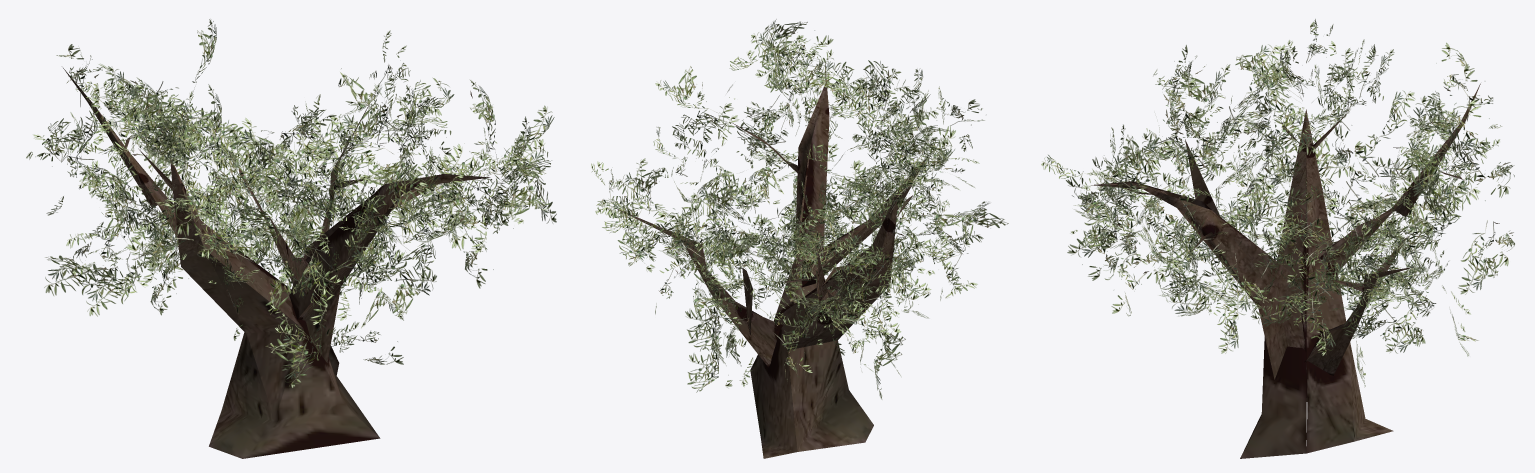
The model's file is tree-olive.glb.
3 views of the same model, side by side, from view 1: azimuth 30°, elevation 25°; view 2: azimuth 150°, elevation 25°; view 3: azimuth 270°, elevation 25° (orthographic). The views are drawn at different scales.
Parts seen in each view (by area): view 1: tree-olive; view 2: tree-olive; view 3: tree-olive.
Boxes of the visible parts, bbox=[...] form: tree-olive: bbox=[26, 19, 556, 458]; tree-olive: bbox=[591, 19, 1008, 458]; tree-olive: bbox=[1041, 19, 1514, 458].
Size of the model in its own units: 6.24 by 5.35 by 6.61.
2 materials, 2 textured.
